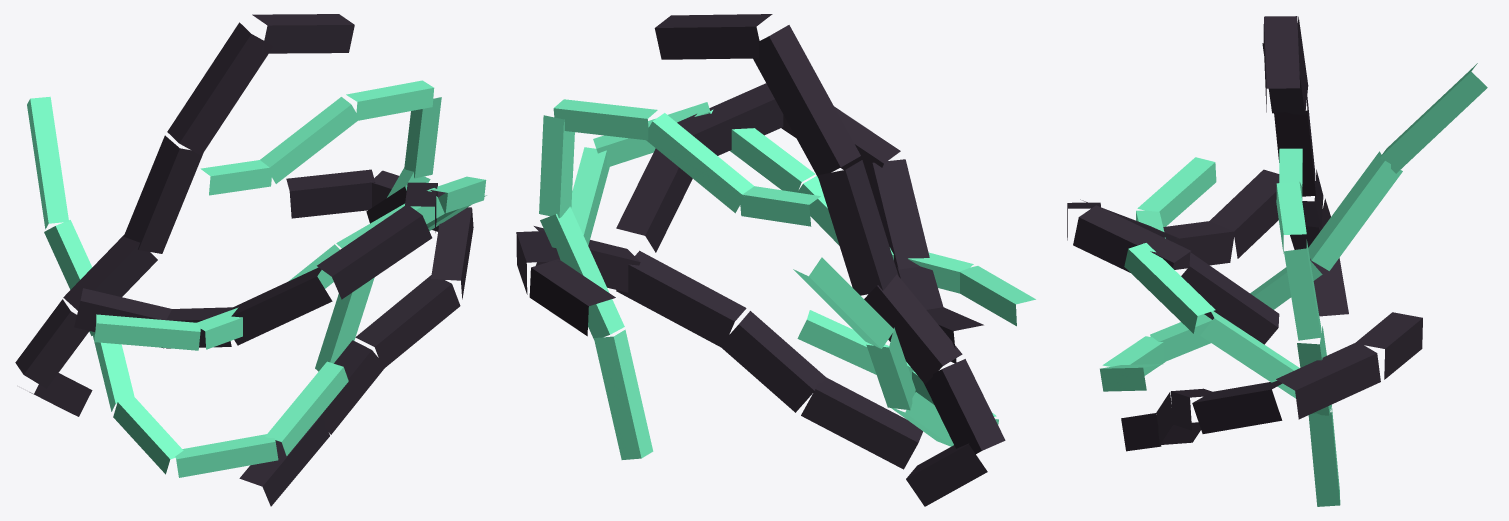
The model's file is plague_wisp.glb.
3 views of the same model, side by side, from view 1: azimuth 30°, elevation 25°; view 2: azimuth 150°, elevation 25°; view 3: azimuth 270°, elevation 25° (orthographic). The views are drawn at different scales.
Parts seen in each view (by area): view 1: plague_wisp; view 2: plague_wisp; view 3: plague_wisp.
Part boxes in pixels (x1,y1,x2,y2): plague_wisp: (15, 14, 486, 506); plague_wisp: (516, 14, 1035, 506); plague_wisp: (1067, 16, 1487, 506).
Bounding box in the file's own units: 0.8738 × 0.8013 × 0.6676.
Materials: 1 (1 with a texture image).
